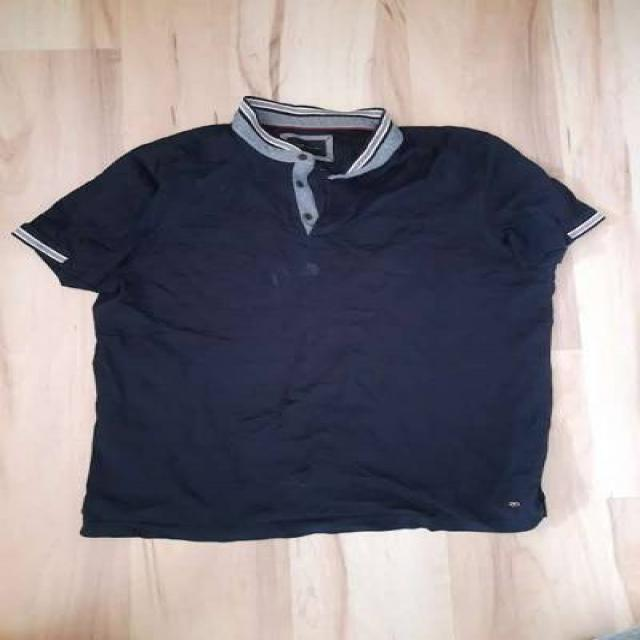Clothes -Biodegradable-: (19, 99, 597, 540)
